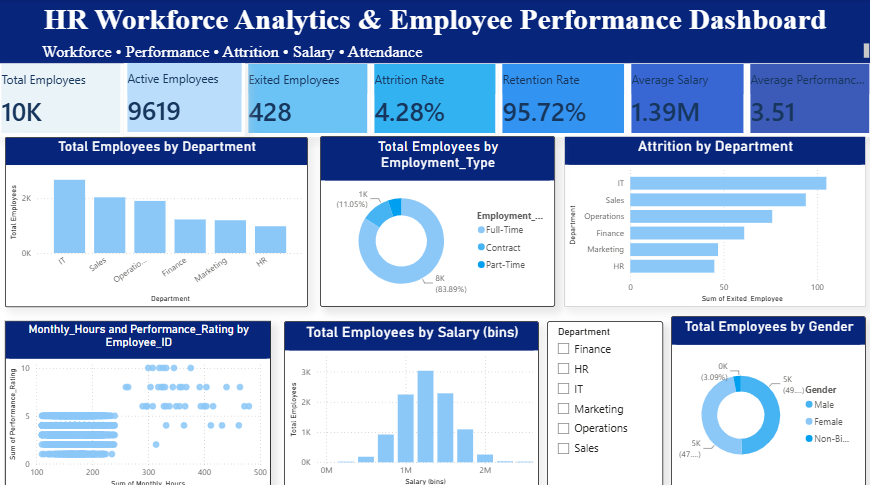

What the dashboard file says about the page in this screenshot:
{"tool":"powerbi","page":{"name":"HR Workforce Analytics & Employee Performance Dashboard","canvas":[1280,720],"ordinal":0},"visuals":[{"type":"textbox","box":[0,0,1280,60.6],"z":0},{"type":"textbox","box":[0,60.6,1280,34.4],"z":1000},{"type":"cardVisual","title":"Total Employees","fields":{"Data":["HR_Workforce_Analytics_Cleaned.Total Employees"]},"box":[0,95.1,184.4,106.8],"z":2000},{"type":"cardVisual","title":"Total Employees","fields":{"Data":["HR_Workforce_Analytics_Cleaned.Exited Employees"]},"box":[361.5,95.1,184.4,106.8],"z":3000},{"type":"cardVisual","title":"Total Employees","fields":{"Data":["HR_Workforce_Analytics_Cleaned.Active Employees"]},"box":[184.4,93.7,177.1,106.8],"z":4000},{"type":"cardVisual","title":"Total Employees","fields":{"Data":["HR_Workforce_Analytics_Cleaned.Attrition Rate"]},"box":[545.9,95.1,187.3,106.8],"z":5000},{"type":"cardVisual","title":"Total Employees","fields":{"Data":["HR_Workforce_Analytics_Cleaned.Retention Rate"]},"box":[733.2,95.1,188.8,106.8],"z":6000},{"type":"cardVisual","title":"Total Employees","fields":{"Data":["HR_Workforce_Analytics_Cleaned.Average Salary"]},"box":[922,95.1,174.1,106.8],"z":7000},{"type":"cardVisual","title":"Total Employees","fields":{"Data":["HR_Workforce_Analytics_Cleaned.Average Performance Score"]},"box":[1096.1,95.1,184.4,106.8],"z":8000},{"type":"clusteredColumnChart","fields":{"Category":["HR_Workforce_Analytics_Cleaned.Department"],"Y":["HR_Workforce_Analytics_Cleaned.Total Employees"]},"box":[10.2,202,443.4,248.8],"z":9000},{"type":"clusteredBarChart","title":"Attrition by Department","fields":{"Category":["HR_Workforce_Analytics_Cleaned.Department"],"Y":["Sum(HR_Workforce_Analytics_Cleaned.Exited_Employee)"]},"box":[828.3,200.5,442,250.2],"z":10000},{"type":"donutChart","fields":{"Category":["HR_Workforce_Analytics_Cleaned.Employment_Type"],"Y":["HR_Workforce_Analytics_Cleaned.Total Employees"]},"box":[471.2,200.5,343.9,250.2],"z":11000},{"type":"scatterChart","title":"Monthly_Hours and Performance_Rating by Employee_ID","fields":{"Category":["HR_Workforce_Analytics_Cleaned.Employee_ID"],"X":["Sum(HR_Workforce_Analytics_Cleaned.Monthly_Hours)"],"Y":["Sum(HR_Workforce_Analytics_Cleaned.Performance_Rating)"]},"box":[10.2,471.2,389.3,248.8],"z":12000},{"type":"columnChart","fields":{"Y":["HR_Workforce_Analytics_Cleaned.Total Employees"],"Category":["HR_Workforce_Analytics_Cleaned.Salary (bins)"]},"box":[418.5,471.2,373.2,248.8],"z":13000},{"type":"slicer","fields":{"Values":["HR_Workforce_Analytics_Cleaned.Department"]},"box":[803.4,471.2,169.8,248.8],"z":14000},{"type":"donutChart","fields":{"Category":["HR_Workforce_Analytics_Cleaned.Gender"],"Y":["HR_Workforce_Analytics_Cleaned.Total Employees"]},"box":[984.9,463.9,285.4,256.1],"z":15000}]}

Visuals, with their boxes in screenshot pixels (x1, y1, x2, y2), scaled from the page's 1280x720 canvas onto the 870x485 screenshot:
textbox: l=0, t=0, r=869, b=41
textbox: l=0, t=41, r=869, b=64
"Total Employees" cardVisual: l=0, t=64, r=125, b=136
"Total Employees" cardVisual: l=246, t=64, r=371, b=136
"Total Employees" cardVisual: l=125, t=63, r=246, b=135
"Total Employees" cardVisual: l=371, t=64, r=498, b=136
"Total Employees" cardVisual: l=498, t=64, r=627, b=136
"Total Employees" cardVisual: l=627, t=64, r=745, b=136
"Total Employees" cardVisual: l=745, t=64, r=869, b=136
clusteredColumnChart - HR_Workforce_Analytics_Cleaned.Department x HR_Workforce_Analytics_Cleaned.Total Employees: l=7, t=136, r=308, b=304
"Attrition by Department" clusteredBarChart: l=563, t=135, r=863, b=304
donutChart - HR_Workforce_Analytics_Cleaned.Employment_Type x HR_Workforce_Analytics_Cleaned.Total Employees: l=320, t=135, r=554, b=304
"Monthly_Hours and Performance_Rating by Employee_ID" scatterChart: l=7, t=317, r=272, b=484
columnChart - HR_Workforce_Analytics_Cleaned.Total Employees x HR_Workforce_Analytics_Cleaned.Salary (bins): l=284, t=317, r=538, b=484
slicer - HR_Workforce_Analytics_Cleaned.Department: l=546, t=317, r=661, b=484
donutChart - HR_Workforce_Analytics_Cleaned.Gender x HR_Workforce_Analytics_Cleaned.Total Employees: l=669, t=312, r=863, b=484
